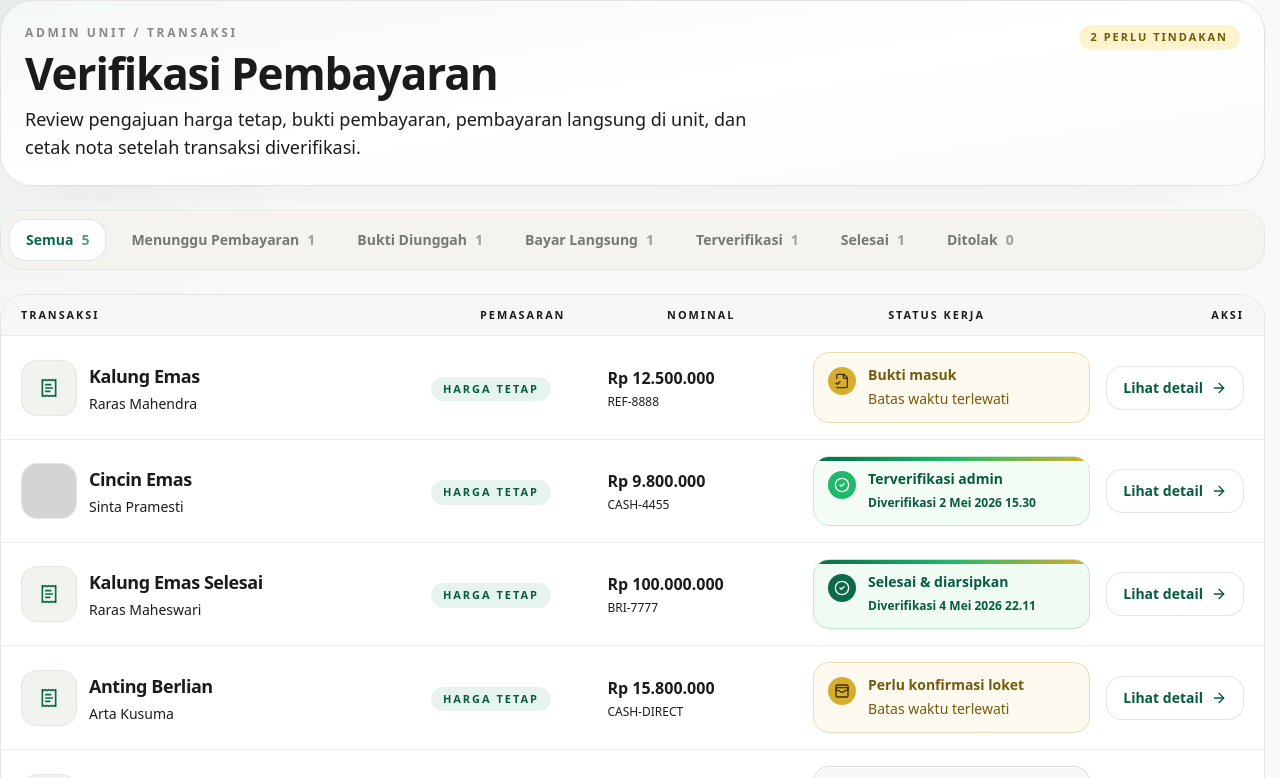
admin transaction pages › separates verified transactions from buyer-completed transactions
This screenshot has width=1280, height=778.
Click the button "Terverifikasi1": (747, 240) [679, 219, 816, 261]
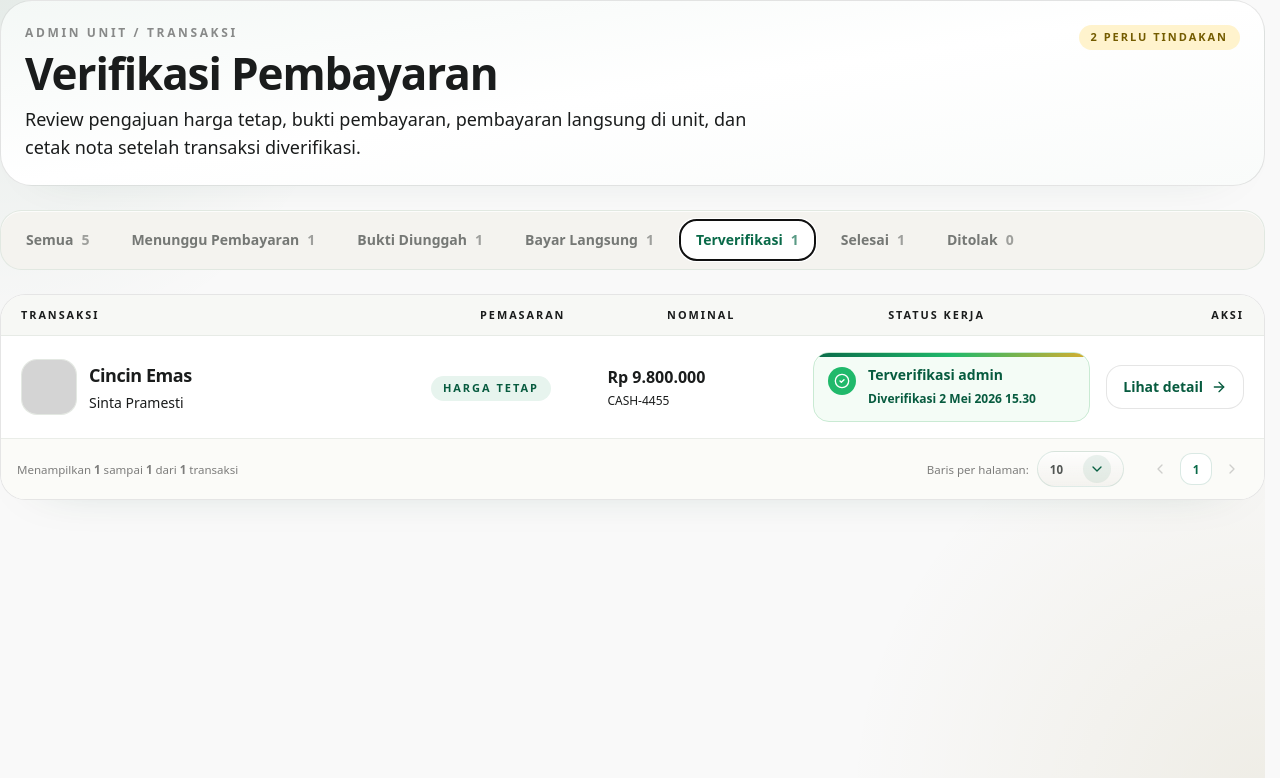
Expected: the heading "Cincin Emas" is shown, [89, 361, 192, 389]
Expected: the heading "Kalung Emas Selesai" is gone
Click the button "Selesai1": (873, 240) [824, 219, 922, 261]
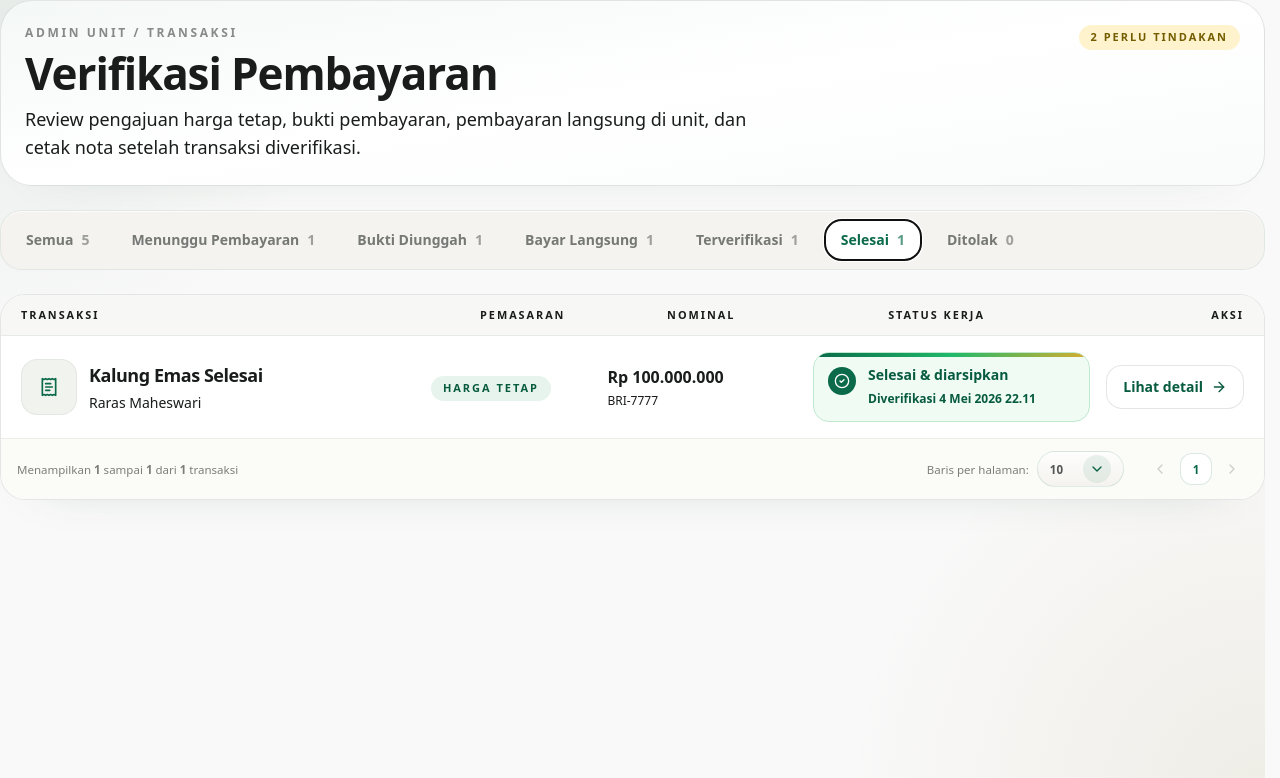
Expected: the heading "Kalung Emas Selesai" is shown, [89, 361, 263, 389]
Expected: the heading "Cincin Emas" is gone
